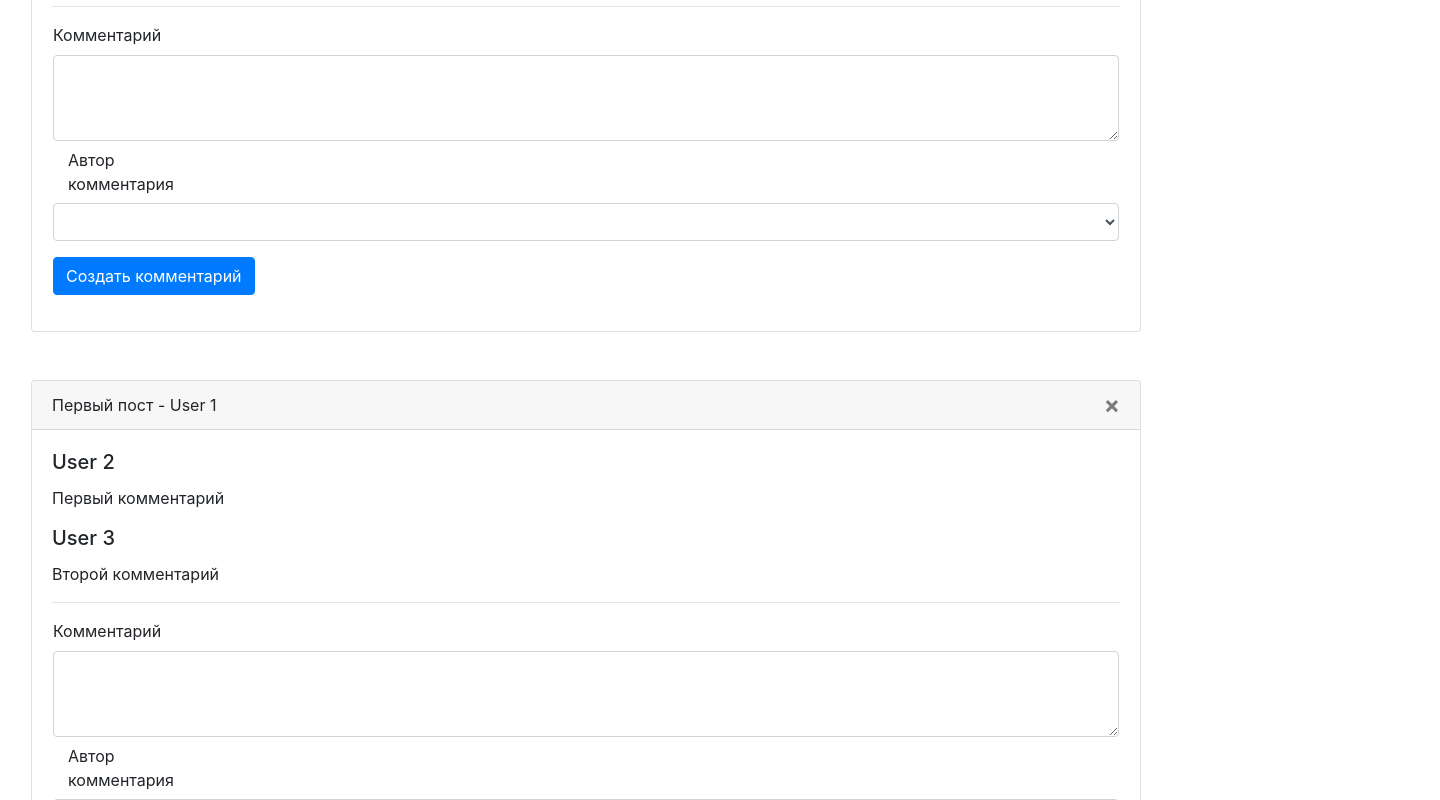
Test: Work 1 › Remove post
This screenshot has width=1440, height=800.
(page scrolled)
Click the button named "close" at (1112, 405), box x1=1104 y1=393 x2=1120 y2=417
(page scrolled)
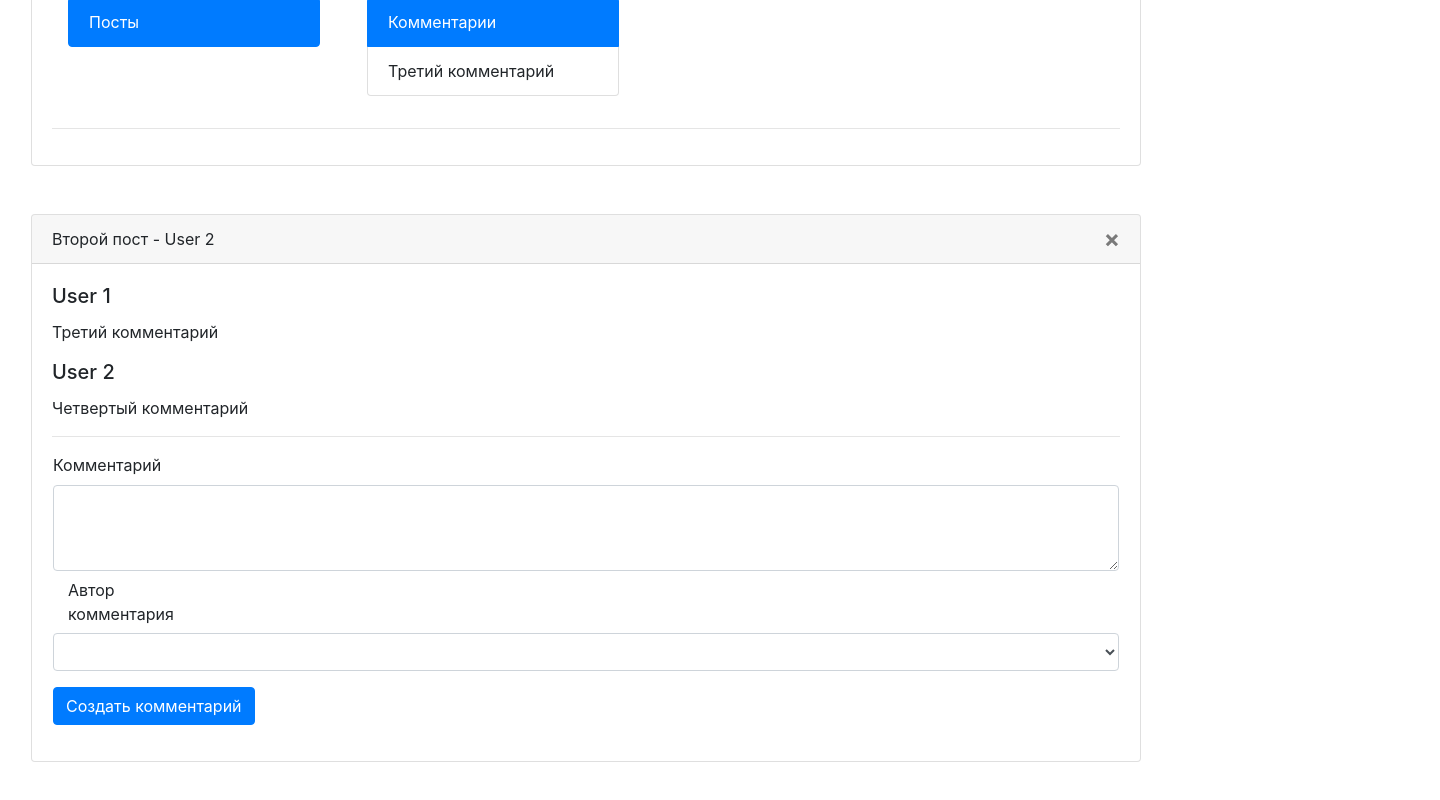
Expected: the text "Первый пост - User 1" is gone
Expected: the text "Первый комментарий" is gone
Expected: the text "Второй комментарий" is gone
